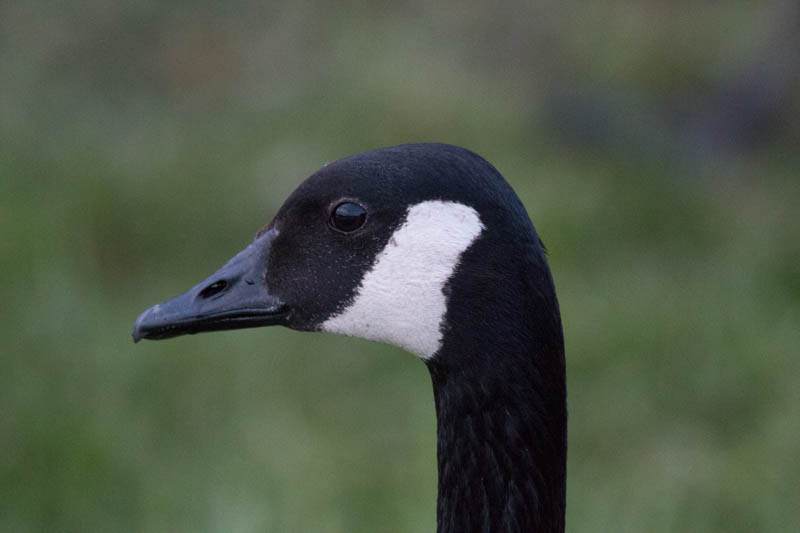goose-head: (129, 141, 564, 363)
